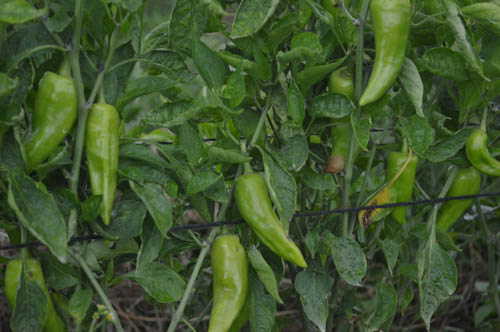ChiliPepper: (235, 174, 309, 266), (362, 2, 410, 109), (21, 73, 73, 166), (202, 233, 248, 332), (82, 104, 117, 221), (3, 261, 57, 329), (322, 71, 357, 166), (435, 170, 480, 230), (382, 154, 416, 220), (461, 128, 497, 174)
